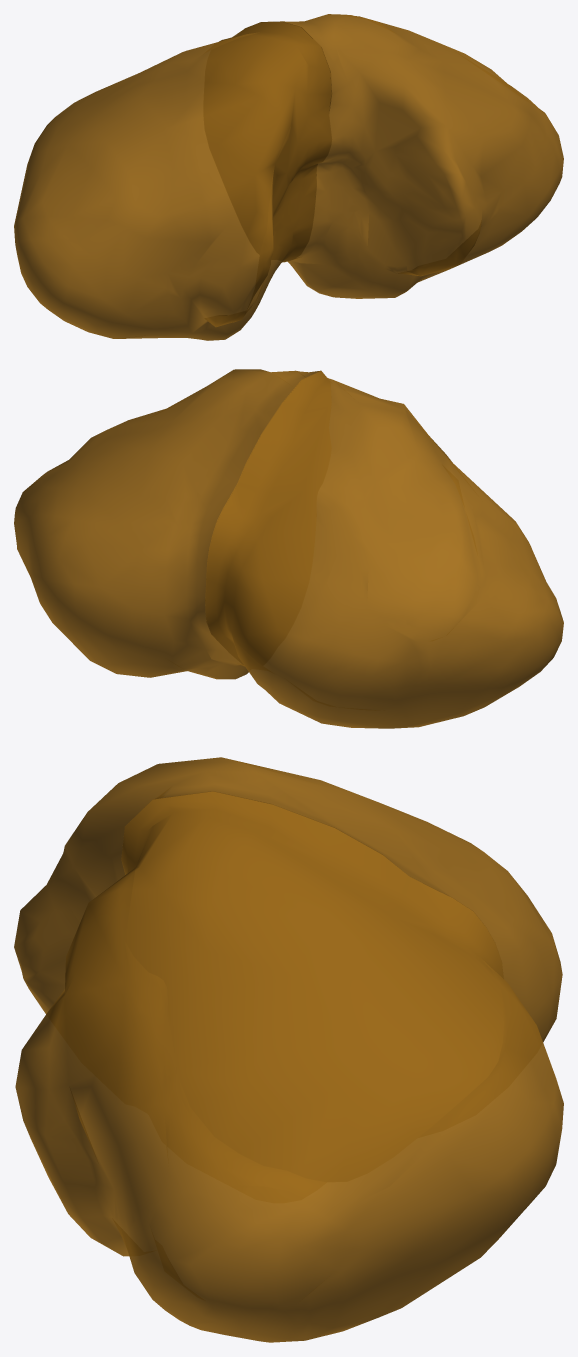
The model's file is cerebellum.obj.
3 views of the same model, one above another, from view 1: azimuth 30°, elevation 25°; view 2: azimuth 150°, elevation 25°; view 3: azimuth 270°, elevation 25° (orthographic). The views are drawn at different scales.
Visible parts, largest first — view 1: L_Cerebellum.001, R_Cerebellum.001; view 2: L_Cerebellum.001, R_Cerebellum.001; view 3: R_Cerebellum.001, L_Cerebellum.001.
Part boxes in pixels (<box>): L_Cerebellum.001: <box>14,21,332,340</box>; R_Cerebellum.001: <box>204,14,563,298</box>; L_Cerebellum.001: <box>205,371,563,728</box>; R_Cerebellum.001: <box>14,369,330,679</box>; R_Cerebellum.001: <box>15,791,563,1342</box>; L_Cerebellum.001: <box>14,757,562,1181</box>.
Size of the model in its own units: 4.34 by 2.34 by 2.6.
